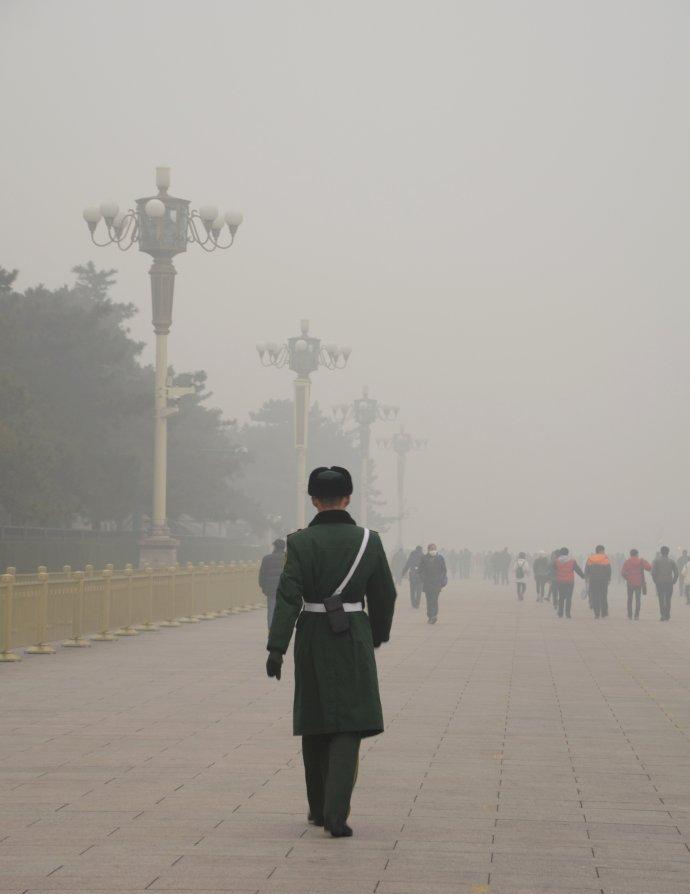person: (263, 463, 399, 843), (258, 536, 293, 643), (546, 547, 585, 622), (619, 547, 652, 625), (420, 542, 448, 626), (651, 545, 678, 626), (586, 544, 613, 620), (401, 544, 428, 608), (532, 549, 550, 604), (511, 551, 529, 602)
